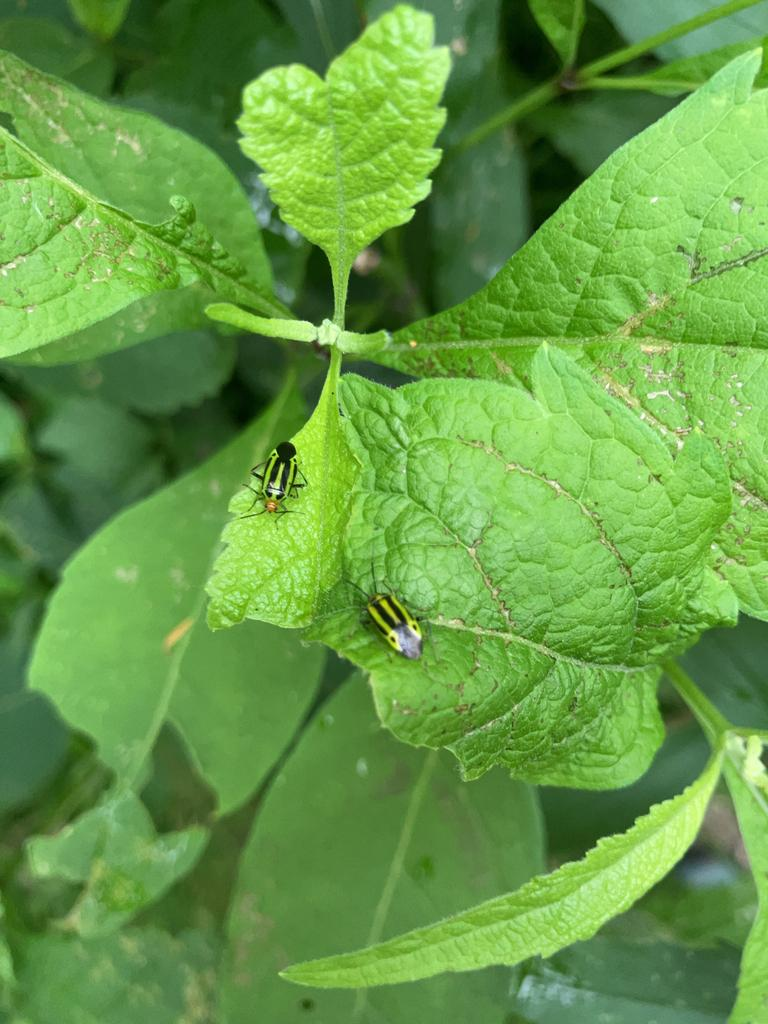plant_bugs: (317, 540, 444, 679), (220, 426, 323, 543)
